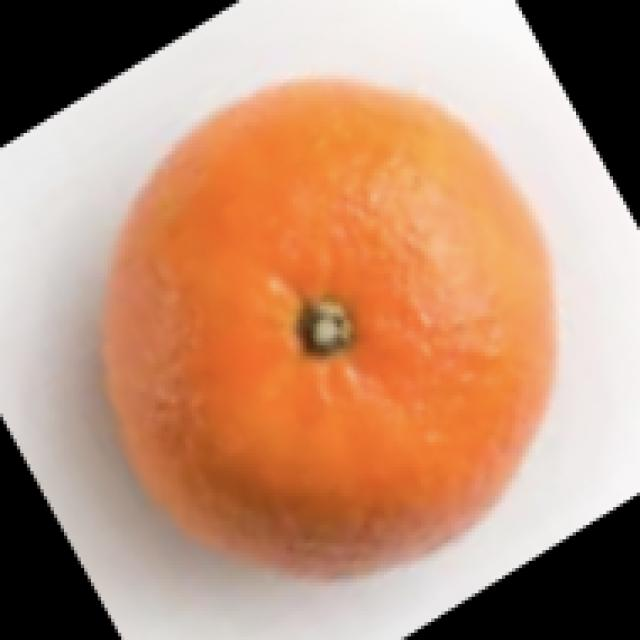matang: (93, 80, 561, 579)
